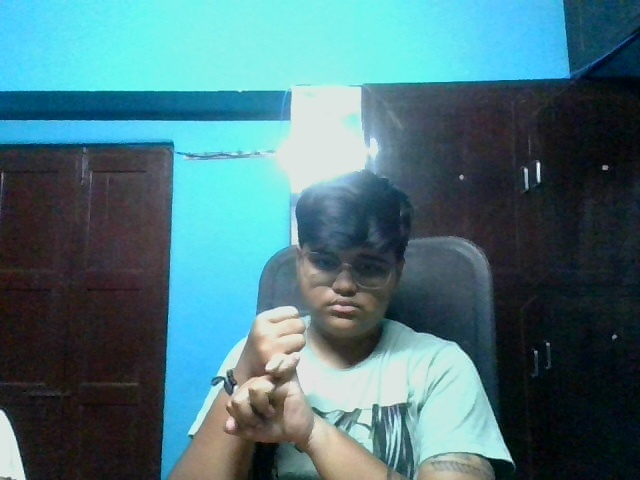S: (217, 300, 317, 459)
